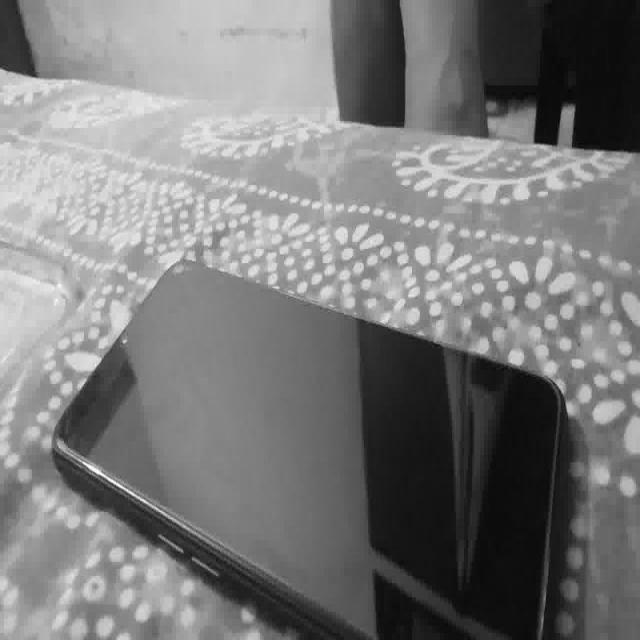fake: (49, 243, 570, 640)
